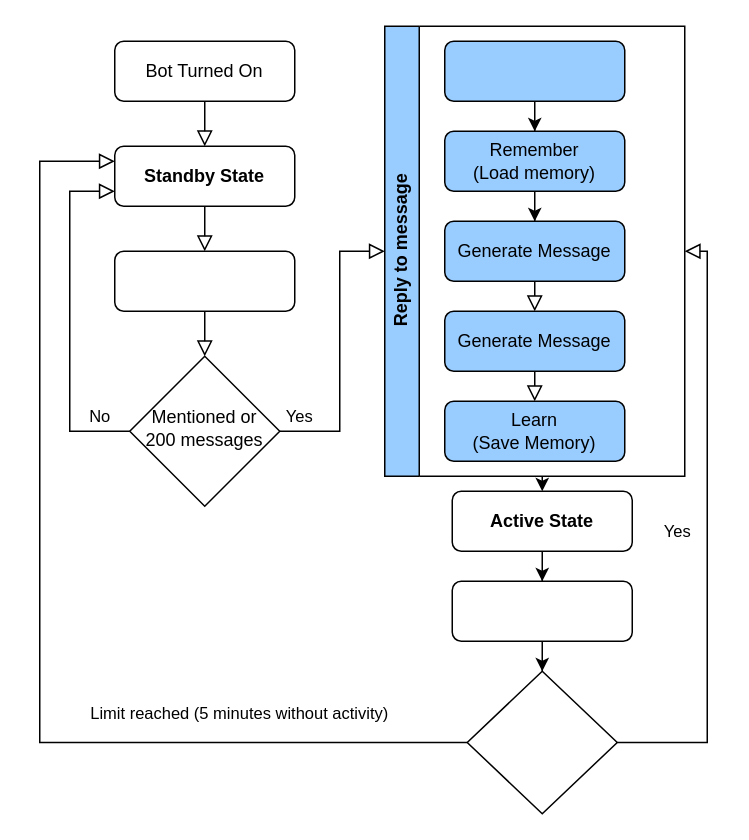
Some shapes in this 749 by 840 pixel diagram are drawn without their labels. Here are the shapes that lost their labels. From the top down, the centre of each, then its label:
[534,70]: Get Keywords
[204,280]: Wait for activity
[541,610]: Wait
[541,742]: Mention, Reply or "Name"
